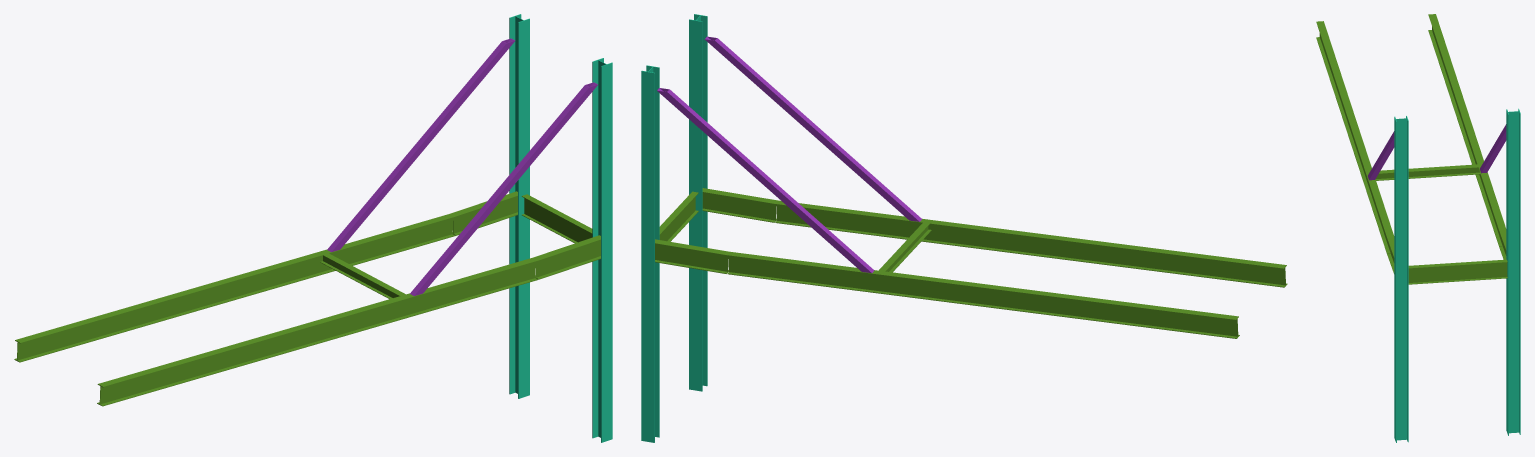
Rendered from TeklaTest.obj.
The picture shows the model from 3 angles, left to right: view 1: azimuth 30°, elevation 25°; view 2: azimuth 150°, elevation 25°; view 3: azimuth 270°, elevation 25°; orthographic projection. The views are drawn at different scales.
Visible parts, largest first — view 1: Mesh8 IfcBeam___BEAM3 Model, Mesh6 IfcBeam___BEAM1 Model, Mesh4 IfcColumn___COLUMN1 Model, Mesh3 IfcColumn___COLUMN Model, Mesh1 IfcMember___V_BRACE Model, Mesh2 IfcMember___V_BRACE1 Model, Mesh5 IfcBeam___BEAM Model, Mesh10 IfcBeam___BEAM5 Model, Mesh9 IfcBeam___BEAM4 Model, Mesh7 IfcBeam___BEAM2 Model; view 2: Mesh6 IfcBeam___BEAM1 Model, Mesh8 IfcBeam___BEAM3 Model, Mesh3 IfcColumn___COLUMN Model, Mesh4 IfcColumn___COLUMN1 Model, Mesh1 IfcMember___V_BRACE Model, Mesh2 IfcMember___V_BRACE1 Model, Mesh5 IfcBeam___BEAM Model, Mesh9 IfcBeam___BEAM4 Model, Mesh10 IfcBeam___BEAM5 Model, Mesh7 IfcBeam___BEAM2 Model; view 3: Mesh4 IfcColumn___COLUMN1 Model, Mesh3 IfcColumn___COLUMN Model, Mesh8 IfcBeam___BEAM3 Model, Mesh6 IfcBeam___BEAM1 Model, Mesh10 IfcBeam___BEAM5 Model, Mesh7 IfcBeam___BEAM2 Model, Mesh2 IfcMember___V_BRACE1 Model, Mesh1 IfcMember___V_BRACE Model.
Part boxes in pixels (<box>): Mesh8 IfcBeam___BEAM3 Model: <box>97,257,538,406</box>; Mesh6 IfcBeam___BEAM1 Model: <box>14,213,455,362</box>; Mesh4 IfcColumn___COLUMN1 Model: <box>592,58,612,442</box>; Mesh3 IfcColumn___COLUMN Model: <box>509,14,529,398</box>; Mesh1 IfcMember___V_BRACE Model: <box>327,38,515,252</box>; Mesh2 IfcMember___V_BRACE1 Model: <box>410,82,597,295</box>; Mesh5 IfcBeam___BEAM Model: <box>533,235,600,279</box>; Mesh10 IfcBeam___BEAM5 Model: <box>521,194,592,243</box>; Mesh9 IfcBeam___BEAM4 Model: <box>451,191,517,235</box>; Mesh7 IfcBeam___BEAM2 Model: <box>320,252,408,299</box>; Mesh6 IfcBeam___BEAM1 Model: <box>726,251,1239,338</box>; Mesh8 IfcBeam___BEAM3 Model: <box>774,200,1287,287</box>; Mesh3 IfcColumn___COLUMN Model: <box>641,65,659,442</box>; Mesh4 IfcColumn___COLUMN1 Model: <box>689,14,707,391</box>; Mesh1 IfcMember___V_BRACE Model: <box>657,88,874,273</box>; Mesh2 IfcMember___V_BRACE1 Model: <box>704,36,921,221</box>; Mesh5 IfcBeam___BEAM Model: <box>702,188,777,222</box>; Mesh9 IfcBeam___BEAM4 Model: <box>655,239,729,273</box>; Mesh10 IfcBeam___BEAM5 Model: <box>659,191,698,241</box>; Mesh7 IfcBeam___BEAM2 Model: <box>877,221,931,273</box>; Mesh4 IfcColumn___COLUMN1 Model: <box>1394,116,1408,442</box>; Mesh3 IfcColumn___COLUMN Model: <box>1506,108,1520,435</box>; Mesh8 IfcBeam___BEAM3 Model: <box>1316,21,1394,253</box>; Mesh6 IfcBeam___BEAM1 Model: <box>1428,14,1506,246</box>; Mesh10 IfcBeam___BEAM5 Model: <box>1408,259,1507,284</box>; Mesh7 IfcBeam___BEAM2 Model: <box>1369,164,1481,180</box>; Mesh2 IfcMember___V_BRACE1 Model: <box>1367,131,1394,180</box>; Mesh1 IfcMember___V_BRACE Model: <box>1480,124,1506,173</box>.
Size of the model in its own units: 559 by 350 by 202.
